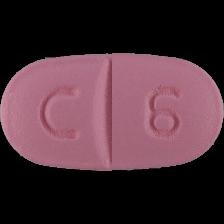52125-793: (0, 0, 224, 224)
